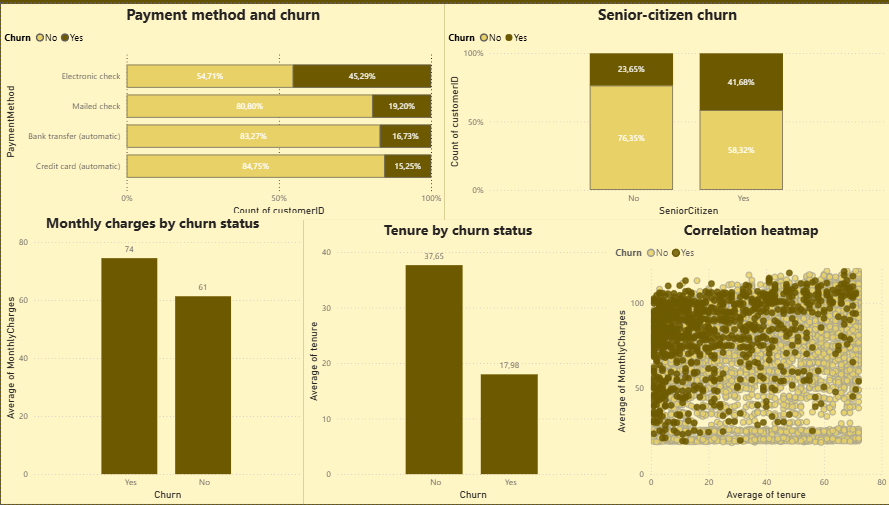

Layout of this report page (visuals, bound fields, positions):
{"tool":"powerbi","page":{"name":"Customer Churn Drivers","canvas":[1280,720],"ordinal":1},"visuals":[{"type":"hundredPercentStackedBarChart","title":"Payment method and churn","fields":{"Category":["telco_churn_clean.PaymentMethod"],"Series":["telco_churn_clean.Churn"],"Y":["CountNonNull(telco_churn_clean.customerID)"]},"box":[0,0,639.4,311],"z":0},{"type":"hundredPercentStackedColumnChart","title":"Senior-citizen churn","fields":{"Category":["telco_churn_clean.SeniorCitizen"],"Series":["telco_churn_clean.Churn"],"Y":["CountNonNull(telco_churn_clean.customerID)"]},"box":[639.4,0,640.8,311],"z":1},{"type":"clusteredColumnChart","title":"Monthly charges by churn status","fields":{"Category":["telco_churn_clean.Churn"],"Y":["Avg(telco_churn_clean.MonthlyCharges)"]},"box":[0,301,436.3,419],"z":2},{"type":"clusteredColumnChart","title":"Tenure by churn status","fields":{"Category":["telco_churn_clean.Churn"],"Y":["Avg(telco_churn_clean.tenure)"]},"box":[436.3,311,443.5,409],"z":3},{"type":"scatterChart","title":"Correlation heatmap","fields":{"X":["Avg(telco_churn_clean.tenure)"],"Y":["Avg(telco_churn_clean.MonthlyCharges)"],"Series":["telco_churn_clean.Churn"],"Category":["telco_churn_clean.customerID"]},"box":[879.8,311,400.3,409],"z":4}]}

Visuals, with their boxes in screenshot pixels (x1, y1, x2, y2), scaled from the page's 1280x720 canvas onto the 889x505 screenshot:
"Payment method and churn" hundredPercentStackedBarChart: 0, 0, 444, 218
"Senior-citizen churn" hundredPercentStackedColumnChart: 444, 0, 888, 218
"Monthly charges by churn status" clusteredColumnChart: 0, 211, 303, 504
"Tenure by churn status" clusteredColumnChart: 303, 218, 611, 504
"Correlation heatmap" scatterChart: 611, 218, 888, 504
